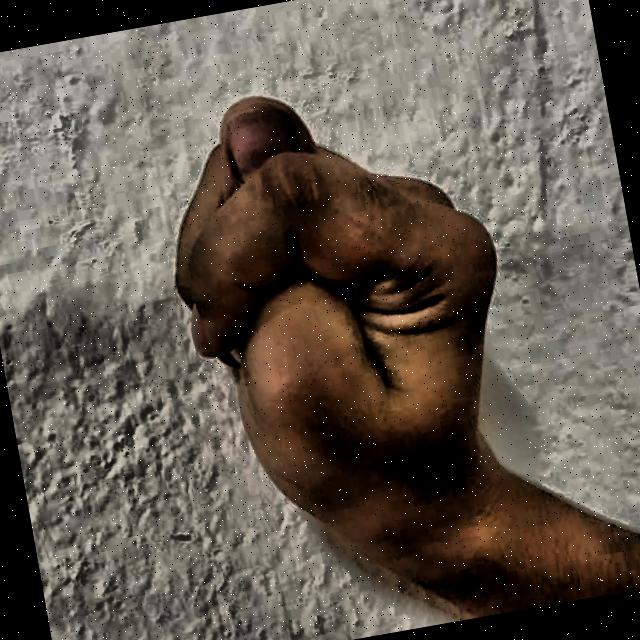Ta: (102, 17, 603, 640)
